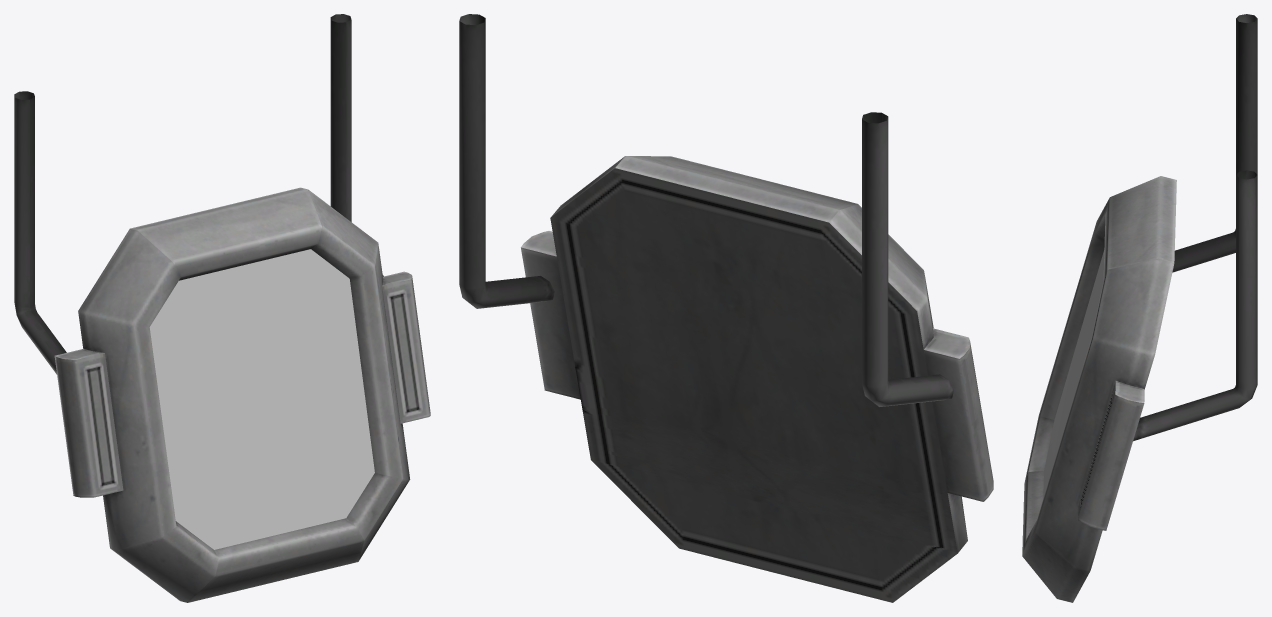
The model's file is theta_panel_attachment_terminal.dae.
3 renders of one model, left to right at view 1: azimuth 30°, elevation 25°; view 2: azimuth 150°, elevation 25°; view 3: azimuth 270°, elevation 25°, orthographic. The views are drawn at different scales.
Visible parts, largest first — view 1: terminal, screen; view 2: terminal; view 3: terminal, screen.
Boxes of the visible parts, bbox=[...] form: terminal: bbox=[14, 14, 430, 602]; screen: bbox=[149, 249, 374, 549]; terminal: bbox=[459, 14, 993, 602]; terminal: bbox=[1022, 14, 1257, 602]; screen: bbox=[1043, 250, 1104, 498].
Size of the model in its own units: 0.3545 by 0.4474 by 0.2048.
